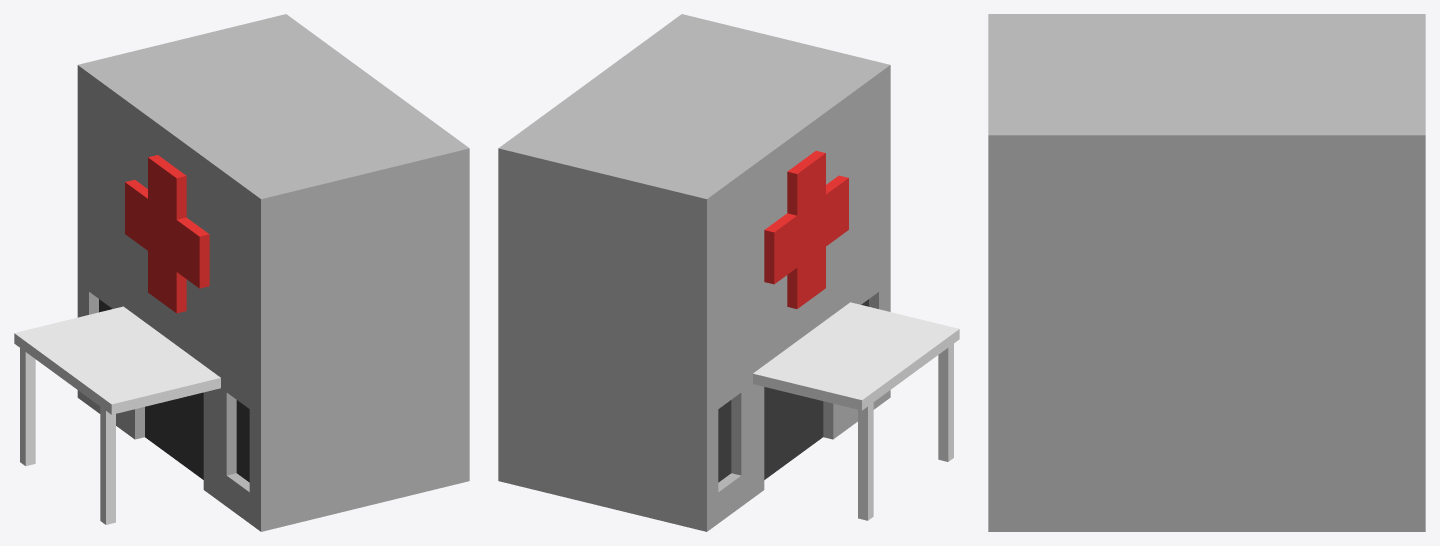
The model's file is cars-15-CenterHospital.obj.
3 renders of one model, left to right at view 1: azimuth 30°, elevation 25°; view 2: azimuth 150°, elevation 25°; view 3: azimuth 270°, elevation 25°, orthographic. The views are drawn at different scales.
Visible parts, largest first — view 1: CenterHospital; view 2: CenterHospital; view 3: CenterHospital.
Part boxes in pixels (x1=…): CenterHospital: x1=14, y1=14, x2=469, y2=531; CenterHospital: x1=498, y1=14, x2=959, y2=531; CenterHospital: x1=988, y1=14, x2=1425, y2=531.
Bounding box in the file's own units: 3.2 × 3.2 × 3.2.
1 material, 1 textured.
